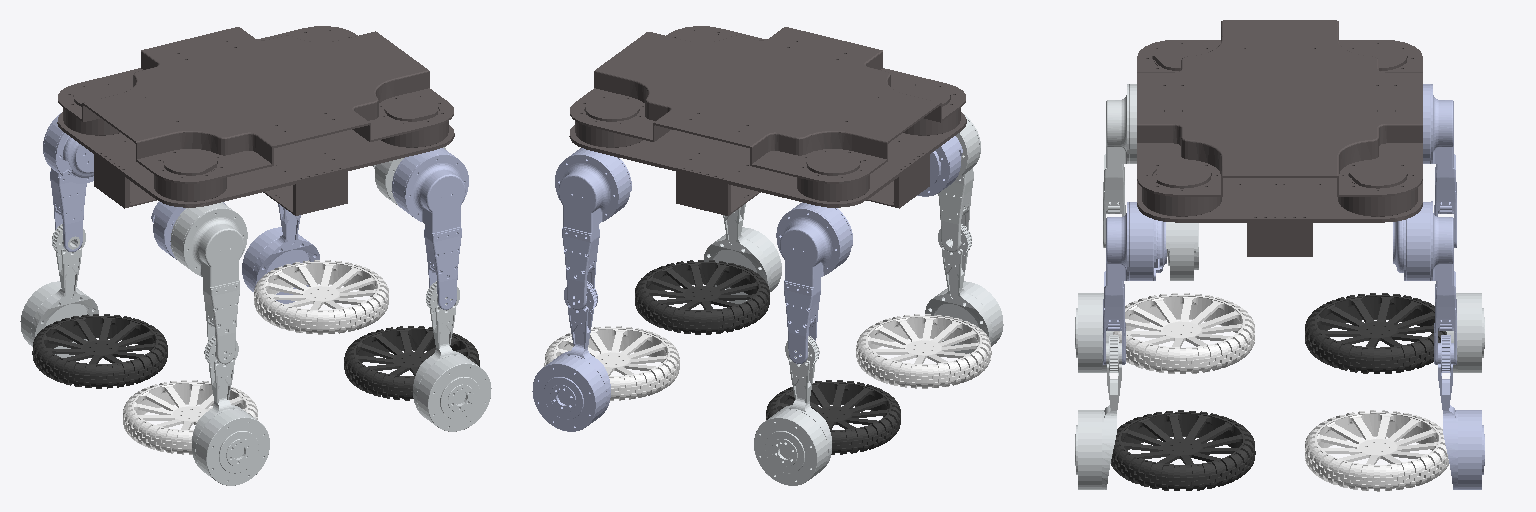
The robot description file, URDF, robot "leggedWheel_urdf_v3":
<?xml version="1.0" encoding="utf-8"?>
<!-- This URDF was automatically created by SolidWorks to URDF Exporter! Originally created by Stephen Brawner ([email redacted]) 
     Commit Version: 1.6.0-4-g7f85cfe  Build Version: 1.6.7995.38578
     For more information, please see http://wiki.ros.org/sw_urdf_exporter -->
<robot
  name="leggedWheel_urdf_v3">
  <link
    name="base_link">
    <inertial>
      <origin
        xyz="-0.00687441750629303 0.00016840998628298 0.039643037351686"
        rpy="0 0 0" />
      <mass
        value="6.93631041360623" />
      <inertia
        ixx="0.0336459138280558"
        ixy="-8.79536879622568E-07"
        ixz="1.40887605515335E-06"
        iyy="0.0542098357785469"
        iyz="-1.88696496348487E-06"
        izz="0.0868280053141141" />
    </inertial>
    <visual>
      <origin
        xyz="0 0 0"
        rpy="0 0 0" />
      <geometry>
        <mesh
          filename="package://leggedWheel_urdf_v3/meshes/base_link.STL" />
      </geometry>
      <material
        name="">
        <color
          rgba="0.43921568627451 0.411764705882353 0.411764705882353 1" />
      </material>
    </visual>
    <collision>
      <origin
        xyz="0 0 0"
        rpy="0 0 0" />
      <geometry>
        <mesh
          filename="package://leggedWheel_urdf_v3/meshes/base_link.STL" />
      </geometry>
    </collision>
  </link>
  <link
    name="left_front_abad">
    <inertial>
      <origin
        xyz="3.96909066445739E-05 -0.000913510036137155 0.0141455115549921"
        rpy="0 0 0" />
      <mass
        value="0.364781129600683" />
      <inertia
        ixx="0.000214071586798384"
        ixy="2.33639275270925E-07"
        ixz="-3.02901820553948E-07"
        iyy="0.000372454562010097"
        iyz="-2.19156777432857E-07"
        izz="0.000262021229869407" />
    </inertial>
    <visual>
      <origin
        xyz="0 0 0"
        rpy="0 0 0" />
      <geometry>
        <mesh
          filename="package://leggedWheel_urdf_v3/meshes/left_front_abad.STL" />
      </geometry>
      <material
        name="">
        <color
          rgba="0.898039215686275 0.917647058823529 0.929411764705882 1" />
      </material>
    </visual>
    <collision>
      <origin
        xyz="0 0 0"
        rpy="0 0 0" />
      <geometry>
        <mesh
          filename="package://leggedWheel_urdf_v3/meshes/left_front_abad.STL" />
      </geometry>
    </collision>
  </link>
  <joint
    name="left_front_abad"
    type="revolute">
    <origin
      xyz="0.169999999999999 0.120000000000005 -0.0510000000000034"
      rpy="0 0 0" />
    <parent
      link="base_link" />
    <child
      link="left_front_abad" />
    <axis
      xyz="0 0 1" />
    <limit
      lower="-3.14"
      upper="3.14"
      effort="10"
      velocity="275" />
  </joint>
  <link
    name="left_front_hip">
    <inertial>
      <origin
        xyz="0.000257190709675337 0.058783752059471 -0.0187965428097329"
        rpy="0 0 0" />
      <mass
        value="0.58601696675297" />
      <inertia
        ixx="0.000416527877754753"
        ixy="-3.62595971993563E-07"
        ixz="2.33666319471906E-06"
        iyy="0.000634287646205887"
        iyz="8.88036094220621E-06"
        izz="0.000299341608899424" />
    </inertial>
    <visual>
      <origin
        xyz="0 0 0"
        rpy="0 0 0" />
      <geometry>
        <mesh
          filename="package://leggedWheel_urdf_v3/meshes/left_front_hip.STL" />
      </geometry>
      <material
        name="">
        <color
          rgba="0.792156862745098 0.819607843137255 0.933333333333333 1" />
      </material>
    </visual>
    <collision>
      <origin
        xyz="0 0 0"
        rpy="0 0 0" />
      <geometry>
        <mesh
          filename="package://leggedWheel_urdf_v3/meshes/left_front_hip.STL" />
      </geometry>
    </collision>
  </link>
  <joint
    name="left_front_hip"
    type="revolute">
    <origin
      xyz="0 0 0"
      rpy="0 0 0" />
    <parent
      link="left_front_abad" />
    <child
      link="left_front_hip" />
    <axis
      xyz="0 1 0" />
    <limit
      lower="-3.14"
      upper="3.14"
      effort="10"
      velocity="275" />
  </joint>
  <link
    name="left_front_knee">
    <inertial>
      <origin
        xyz="7.76403467184217E-07 0.101384054323778 -0.105775251077242"
        rpy="0 0 0" />
      <mass
        value="0.441651824159081" />
      <inertia
        ixx="0.000398866453379467"
        ixy="1.00806584895321E-08"
        ixz="-1.08489290087054E-08"
        iyy="0.000612887101614769"
        iyz="2.01368193265162E-05"
        izz="0.000274530065386405" />
    </inertial>
    <visual>
      <origin
        xyz="0 0 0"
        rpy="0 0 0" />
      <geometry>
        <mesh
          filename="package://leggedWheel_urdf_v3/meshes/left_front_knee.STL" />
      </geometry>
      <material
        name="">
        <color
          rgba="0.792156862745098 0.819607843137255 0.933333333333333 1" />
      </material>
    </visual>
    <collision>
      <origin
        xyz="0 0 0"
        rpy="0 0 0" />
      <geometry>
        <mesh
          filename="package://leggedWheel_urdf_v3/meshes/left_front_knee.STL" />
      </geometry>
    </collision>
  </link>
  <joint
    name="left_front_knee"
    type="revolute">
    <origin
      xyz="0 0 -0.152"
      rpy="0 0 0" />
    <parent
      link="left_front_hip" />
    <child
      link="left_front_knee" />
    <axis
      xyz="0 1 0" />
    <limit
      lower="-3.14"
      upper="3.14"
      effort="10"
      velocity="275" />
  </joint>
  <link
    name="left_front_wheel">
    <inertial>
      <origin
        xyz="-3.30023919303812E-09 0.151096488682378 -2.85931647803217E-09"
        rpy="0 0 0" />
      <mass
        value="1.05505860671373" />
      <inertia
        ixx="0.00281347246586849"
        ixy="7.0774731593858E-11"
        ixz="5.90686008357425E-11"
        iyy="0.0050229074402748"
        iyz="-5.00443921286913E-11"
        izz="0.00281347246843757" />
    </inertial>
    <visual>
      <origin
        xyz="0 0 0"
        rpy="0 0 0" />
      <geometry>
        <mesh
          filename="package://leggedWheel_urdf_v3/meshes/left_front_wheel.STL" />
      </geometry>
      <material
        name="">
        <color
          rgba="1 1 1 1" />
      </material>
    </visual>
    <collision>
      <origin
        xyz="0 0 0"
        rpy="0 0 0" />
      <geometry>
        <mesh
          filename="package://leggedWheel_urdf_v3/meshes/left_front_wheel.STL" />
      </geometry>
    </collision>
  </link>
  <joint
    name="left_front_wheel"
    type="continuous">
    <origin
      xyz="0 0 -0.13"
      rpy="0 0 0" />
    <parent
      link="left_front_knee" />
    <child
      link="left_front_wheel" />
    <axis
      xyz="0 1 0" />
    <limit
      effort="10"
      velocity="400" />
  </joint>
  <link
    name="left_back_abad">
    <inertial>
      <origin
        xyz="3.96909066445184E-05 -0.000913510036137183 0.0141455115549919"
        rpy="0 0 0" />
      <mass
        value="0.364781129600681" />
      <inertia
        ixx="0.000214071586798384"
        ixy="2.3363927527067E-07"
        ixz="-3.02901820553969E-07"
        iyy="0.000372454562010097"
        iyz="-2.191567774326E-07"
        izz="0.000262021229869406" />
    </inertial>
    <visual>
      <origin
        xyz="0 0 0"
        rpy="0 0 0" />
      <geometry>
        <mesh
          filename="package://leggedWheel_urdf_v3/meshes/left_back_abad.STL" />
      </geometry>
      <material
        name="">
        <color
          rgba="0.898039215686275 0.917647058823529 0.929411764705882 1" />
      </material>
    </visual>
    <collision>
      <origin
        xyz="0 0 0"
        rpy="0 0 0" />
      <geometry>
        <mesh
          filename="package://leggedWheel_urdf_v3/meshes/left_back_abad.STL" />
      </geometry>
    </collision>
  </link>
  <joint
    name="left_back_abad"
    type="revolute">
    <origin
      xyz="-0.170000000000001 0.120000000000004 -0.0510000000000034"
      rpy="0 0 0" />
    <parent
      link="base_link" />
    <child
      link="left_back_abad" />
    <axis
      xyz="0 0 1" />
    <limit
      lower="-3.14"
      upper="3.14"
      effort="10"
      velocity="275" />
  </joint>
  <link
    name="left_back_hip">
    <inertial>
      <origin
        xyz="0.000257190709675559 0.0587837520594712 -0.018796542809733"
        rpy="0 0 0" />
      <mass
        value="0.586016966752973" />
      <inertia
        ixx="0.000416527877754754"
        ixy="-3.62595971993404E-07"
        ixz="2.33666319472172E-06"
        iyy="0.000634287646205885"
        iyz="8.88036094220618E-06"
        izz="0.000299341608899422" />
    </inertial>
    <visual>
      <origin
        xyz="0 0 0"
        rpy="0 0 0" />
      <geometry>
        <mesh
          filename="package://leggedWheel_urdf_v3/meshes/left_back_hip.STL" />
      </geometry>
      <material
        name="">
        <color
          rgba="0.792156862745098 0.819607843137255 0.933333333333333 1" />
      </material>
    </visual>
    <collision>
      <origin
        xyz="0 0 0"
        rpy="0 0 0" />
      <geometry>
        <mesh
          filename="package://leggedWheel_urdf_v3/meshes/left_back_hip.STL" />
      </geometry>
    </collision>
  </link>
  <joint
    name="left_back_hip"
    type="revolute">
    <origin
      xyz="0 0 0"
      rpy="0 0 0" />
    <parent
      link="left_back_abad" />
    <child
      link="left_back_hip" />
    <axis
      xyz="0 1 0" />
    <limit
      lower="-3.14"
      upper="3.14"
      effort="10"
      velocity="275" />
  </joint>
  <link
    name="left_back_knee">
    <inertial>
      <origin
        xyz="7.76403467128706E-07 0.101384054323778 -0.105775251077242"
        rpy="0 0 0" />
      <mass
        value="0.44165182415908" />
      <inertia
        ixx="0.000398866453379467"
        ixy="1.00806584895534E-08"
        ixz="-1.08489290083958E-08"
        iyy="0.000612887101614769"
        iyz="2.01368193265164E-05"
        izz="0.000274530065386405" />
    </inertial>
    <visual>
      <origin
        xyz="0 0 0"
        rpy="0 0 0" />
      <geometry>
        <mesh
          filename="package://leggedWheel_urdf_v3/meshes/left_back_knee.STL" />
      </geometry>
      <material
        name="">
        <color
          rgba="0.898039215686275 0.917647058823529 0.929411764705882 1" />
      </material>
    </visual>
    <collision>
      <origin
        xyz="0 0 0"
        rpy="0 0 0" />
      <geometry>
        <mesh
          filename="package://leggedWheel_urdf_v3/meshes/left_back_knee.STL" />
      </geometry>
    </collision>
  </link>
  <joint
    name="left_back_knee"
    type="revolute">
    <origin
      xyz="0 0 -0.152"
      rpy="0 0 0" />
    <parent
      link="left_back_hip" />
    <child
      link="left_back_knee" />
    <axis
      xyz="0 1 0" />
    <limit
      lower="-3.14"
      upper="3.14"
      effort="10"
      velocity="275" />
  </joint>
  <link
    name="left_back_wheel">
    <inertial>
      <origin
        xyz="-3.30023941508273E-09 0.151096488682378 -2.85931653354332E-09"
        rpy="0 0 0" />
      <mass
        value="1.05505860671376" />
      <inertia
        ixx="0.00281347246586855"
        ixy="7.07747301868021E-11"
        ixz="5.90686125680846E-11"
        iyy="0.00502290744027486"
        iyz="-5.00443946171771E-11"
        izz="0.00281347246843757" />
    </inertial>
    <visual>
      <origin
        xyz="0 0 0"
        rpy="0 0 0" />
      <geometry>
        <mesh
          filename="package://leggedWheel_urdf_v3/meshes/left_back_wheel.STL" />
      </geometry>
      <material
        name="">
        <color
          rgba="0.298039215686275 0.298039215686275 0.298039215686275 1" />
      </material>
    </visual>
    <collision>
      <origin
        xyz="0 0 0"
        rpy="0 0 0" />
      <geometry>
        <mesh
          filename="package://leggedWheel_urdf_v3/meshes/left_back_wheel.STL" />
      </geometry>
    </collision>
  </link>
  <joint
    name="left_back_wheel"
    type="continuous">
    <origin
      xyz="0 0 -0.13"
      rpy="0 0 0" />
    <parent
      link="left_back_knee" />
    <child
      link="left_back_wheel" />
    <axis
      xyz="0 1 0" />
    <limit
      effort="10"
      velocity="400" />
  </joint>
  <link
    name="right_front_abad">
    <inertial>
      <origin
        xyz="-3.96909066446849E-05 0.00091351003613778 0.0141455115549919"
        rpy="0 0 0" />
      <mass
        value="0.364781129600681" />
      <inertia
        ixx="0.000214071586798384"
        ixy="2.33639275271964E-07"
        ixz="3.02901820553882E-07"
        iyy="0.000372454562010096"
        iyz="2.19156777427903E-07"
        izz="0.000262021229869406" />
    </inertial>
    <visual>
      <origin
        xyz="0 0 0"
        rpy="0 0 0" />
      <geometry>
        <mesh
          filename="package://leggedWheel_urdf_v3/meshes/right_front_abad.STL" />
      </geometry>
      <material
        name="">
        <color
          rgba="0.898039215686275 0.917647058823529 0.929411764705882 1" />
      </material>
    </visual>
    <collision>
      <origin
        xyz="0 0 0"
        rpy="0 0 0" />
      <geometry>
        <mesh
          filename="package://leggedWheel_urdf_v3/meshes/right_front_abad.STL" />
      </geometry>
    </collision>
  </link>
  <joint
    name="right_front_abad"
    type="revolute">
    <origin
      xyz="0.17 -0.12 -0.051"
      rpy="0 0 0" />
    <parent
      link="base_link" />
    <child
      link="right_front_abad" />
    <axis
      xyz="0 0 1" />
    <limit
      lower="-3.14"
      upper="3.14"
      effort="10"
      velocity="275" />
  </joint>
  <link
    name="right_front_hip">
    <inertial>
      <origin
        xyz="-0.000257190709172406 -0.0587837520583022 -0.0187965428098051"
        rpy="0 0 0" />
      <mass
        value="0.586016966753359" />
      <inertia
        ixx="0.000416527877758501"
        ixy="-3.6259597201578E-07"
        ixz="-2.33666318250852E-06"
        iyy="0.000634287646209621"
        iyz="-8.88036093474357E-06"
        izz="0.000299341608899457" />
    </inertial>
    <visual>
      <origin
        xyz="0 0 0"
        rpy="0 0 0" />
      <geometry>
        <mesh
          filename="package://leggedWheel_urdf_v3/meshes/right_front_hip.STL" />
      </geometry>
      <material
        name="">
        <color
          rgba="0.792156862745098 0.819607843137255 0.933333333333333 1" />
      </material>
    </visual>
    <collision>
      <origin
        xyz="0 0 0"
        rpy="0 0 0" />
      <geometry>
        <mesh
          filename="package://leggedWheel_urdf_v3/meshes/right_front_hip.STL" />
      </geometry>
    </collision>
  </link>
  <joint
    name="right_front_hip"
    type="revolute">
    <origin
      xyz="0 0 0"
      rpy="0 0 0" />
    <parent
      link="right_front_abad" />
    <child
      link="right_front_hip" />
    <axis
      xyz="0 1 0" />
    <limit
      lower="-3.14"
      upper="3.14"
      effort="10"
      velocity="275" />
  </joint>
  <link
    name="right_front_knee">
    <inertial>
      <origin
        xyz="-7.76403467961373E-07 -0.101384054323783 -0.105775251077238"
        rpy="0 0 0" />
      <mass
        value="0.441651824159078" />
      <inertia
        ixx="0.000398866453379465"
        ixy="1.00806584911063E-08"
        ixz="1.08489290087403E-08"
        iyy="0.000612887101614764"
        iyz="-2.01368193265306E-05"
        izz="0.000274530065386405" />
    </inertial>
    <visual>
      <origin
        xyz="0 0 0"
        rpy="0 0 0" />
      <geometry>
        <mesh
          filename="package://leggedWheel_urdf_v3/meshes/right_front_knee.STL" />
      </geometry>
      <material
        name="">
        <color
          rgba="0.898039215686275 0.917647058823529 0.929411764705882 1" />
      </material>
    </visual>
    <collision>
      <origin
        xyz="0 0 0"
        rpy="0 0 0" />
      <geometry>
        <mesh
          filename="package://leggedWheel_urdf_v3/meshes/right_front_knee.STL" />
      </geometry>
    </collision>
  </link>
  <joint
    name="right_front_knee"
    type="revolute">
    <origin
      xyz="0 0 -0.152"
      rpy="0 0 0" />
    <parent
      link="right_front_hip" />
    <child
      link="right_front_knee" />
    <axis
      xyz="0 1 0" />
    <limit
      lower="-3.14"
      upper="3.14"
      effort="10"
      velocity="275" />
  </joint>
  <link
    name="right_front_wheel">
    <inertial>
      <origin
        xyz="3.30023841588201E-09 -0.151096488682378 -2.85930970567172E-09"
        rpy="0 0 0" />
      <mass
        value="1.05505860671378" />
      <inertia
        ixx="0.00281347246586857"
        ixy="7.07747492468073E-11"
        ixz="-5.90686222096659E-11"
        iyy="0.0050229074402749"
        iyz="5.00443036237485E-11"
        izz="0.00281347246843761" />
    </inertial>
    <visual>
      <origin
        xyz="0 0 0"
        rpy="0 0 0" />
      <geometry>
        <mesh
          filename="package://leggedWheel_urdf_v3/meshes/right_front_wheel.STL" />
      </geometry>
      <material
        name="">
        <color
          rgba="0.298039215686275 0.298039215686275 0.298039215686275 1" />
      </material>
    </visual>
    <collision>
      <origin
        xyz="0 0 0"
        rpy="0 0 0" />
      <geometry>
        <mesh
          filename="package://leggedWheel_urdf_v3/meshes/right_front_wheel.STL" />
      </geometry>
    </collision>
  </link>
  <joint
    name="right_front_wheel"
    type="continuous">
    <origin
      xyz="0 0 -0.13"
      rpy="0 0 0" />
    <parent
      link="right_front_knee" />
    <child
      link="right_front_wheel" />
    <axis
      xyz="0 1 0" />
    <limit
      effort="10"
      velocity="400" />
  </joint>
  <link
    name="right_back_abad">
    <inertial>
      <origin
        xyz="-3.96909066446294E-05 0.000913510036137488 0.014145511554992"
        rpy="0 0 0" />
      <mass
        value="0.364781129600681" />
      <inertia
        ixx="0.000214071586798384"
        ixy="2.33639275271317E-07"
        ixz="3.02901820553864E-07"
        iyy="0.000372454562010096"
        iyz="2.19156777430364E-07"
        izz="0.000262021229869406" />
    </inertial>
    <visual>
      <origin
        xyz="0 0 0"
        rpy="0 0 0" />
      <geometry>
        <mesh
          filename="package://leggedWheel_urdf_v3/meshes/right_back_abad.STL" />
      </geometry>
      <material
        name="">
        <color
          rgba="0.792156862745098 0.819607843137255 0.933333333333333 1" />
      </material>
    </visual>
    <collision>
      <origin
        xyz="0 0 0"
        rpy="0 0 0" />
      <geometry>
        <mesh
          filename="package://leggedWheel_urdf_v3/meshes/right_back_abad.STL" />
      </geometry>
    </collision>
  </link>
  <joint
    name="right_back_abad"
    type="revolute">
    <origin
      xyz="-0.17 -0.12 -0.051"
      rpy="0 0 0" />
    <parent
      link="base_link" />
    <child
      link="right_back_abad" />
    <axis
      xyz="0 0 1" />
    <limit
      lower="-3.14"
      upper="3.14"
      effort="10"
      velocity="275" />
  </joint>
  <link
    name="right_back_hip">
    <inertial>
      <origin
        xyz="-0.000257190709437971 -0.0587837520578504 -0.018796542804722"
        rpy="0 0 0" />
      <mass
        value="0.586016966727991" />
      <inertia
        ixx="0.000416527877718038"
        ixy="-3.62595971351178E-07"
        ixz="-2.33666318881681E-06"
        iyy="0.000634287646168458"
        iyz="-8.8803609386424E-06"
        izz="0.000299341608898524" />
    </inertial>
    <visual>
      <origin
        xyz="0 0 0"
        rpy="0 0 0" />
      <geometry>
        <mesh
          filename="package://leggedWheel_urdf_v3/meshes/right_back_hip.STL" />
      </geometry>
      <material
        name="">
        <color
          rgba="0.898039215686275 0.917647058823529 0.929411764705882 1" />
      </material>
    </visual>
    <collision>
      <origin
        xyz="0 0 0"
        rpy="0 0 0" />
      <geometry>
        <mesh
          filename="package://leggedWheel_urdf_v3/meshes/right_back_hip.STL" />
      </geometry>
    </collision>
  </link>
  <joint
    name="right_back_hip"
    type="revolute">
    <origin
      xyz="0 0 0"
      rpy="0 0 0" />
    <parent
      link="right_back_abad" />
    <child
      link="right_back_hip" />
    <axis
      xyz="0 1 0" />
    <limit
      lower="-3.14"
      upper="3.14"
      effort="10"
      velocity="275" />
  </joint>
  <link
    name="right_back_knee">
    <inertial>
      <origin
        xyz="-7.76403467628306E-07 -0.101384054323781 -0.10577525107724"
        rpy="0 0 0" />
      <mass
        value="0.441651824159079" />
      <inertia
        ixx="0.000398866453379465"
        ixy="1.00806584902624E-08"
        ixz="1.08489290086285E-08"
        iyy="0.000612887101614765"
        iyz="-2.01368193265234E-05"
        izz="0.000274530065386405" />
    </inertial>
    <visual>
      <origin
        xyz="0 0 0"
        rpy="0 0 0" />
      <geometry>
        <mesh
          filename="package://leggedWheel_urdf_v3/meshes/right_back_knee.STL" />
      </geometry>
      <material
        name="">
        <color
          rgba="0.898039215686275 0.917647058823529 0.929411764705882 1" />
      </material>
    </visual>
    <collision>
      <origin
        xyz="0 0 0"
        rpy="0 0 0" />
      <geometry>
        <mesh
          filename="package://leggedWheel_urdf_v3/meshes/right_back_knee.STL" />
      </geometry>
    </collision>
  </link>
  <joint
    name="right_back_knee"
    type="revolute">
    <origin
      xyz="0 0 -0.152"
      rpy="0 0 0" />
    <parent
      link="right_back_hip" />
    <child
      link="right_back_knee" />
    <axis
      xyz="0 1 0" />
    <limit
      lower="-3.14"
      upper="3.14"
      effort="10"
      velocity="275" />
  </joint>
  <link
    name="right_back_wheel">
    <inertial>
      <origin
        xyz="3.30023908201582E-09 -0.151096488682378 -2.85931289756292E-09"
        rpy="0 0 0" />
      <mass
        value="1.05505860671377" />
      <inertia
        ixx="0.00281347246586856"
        ixy="7.07747388619757E-11"
        ixz="-5.9068618748247E-11"
        iyy="0.00502290744027488"
        iyz="5.00443495360474E-11"
        izz="0.00281347246843759" />
    </inertial>
    <visual>
      <origin
        xyz="0 0 0"
        rpy="0 0 0" />
      <geometry>
        <mesh
          filename="package://leggedWheel_urdf_v3/meshes/right_back_wheel.STL" />
      </geometry>
      <material
        name="">
        <color
          rgba="1 1 1 1" />
      </material>
    </visual>
    <collision>
      <origin
        xyz="0 0 0"
        rpy="0 0 0" />
      <geometry>
        <mesh
          filename="package://leggedWheel_urdf_v3/meshes/right_back_wheel.STL" />
      </geometry>
    </collision>
  </link>
  <joint
    name="right_back_wheel"
    type="continuous">
    <origin
      xyz="0 0 -0.13"
      rpy="0 0 0" />
    <parent
      link="right_back_knee" />
    <child
      link="right_back_wheel" />
    <axis
      xyz="0 1 0" />
    <limit
      effort="10"
      velocity="400" />
  </joint>
</robot>

--- Render facts (derived) ---
The picture shows the robot from 3 angles, left to right: view 1: azimuth 30°, elevation 25°; view 2: azimuth 150°, elevation 25°; view 3: azimuth 270°, elevation 25°; orthographic projection.
Robot: leggedWheel_urdf_v3 — 17 links, 16 joints (12 revolute, 4 continuous); root link base_link; default pose: every joint at zero.
Visible links, largest first — view 1: base_link, left_back_wheel, left_front_wheel, right_back_hip, right_front_hip, right_front_knee, right_back_knee, right_back_wheel, right_front_wheel, left_back_hip, left_back_knee, left_front_knee (+2 smaller); view 2: base_link, right_back_wheel, right_front_wheel, left_back_hip, left_front_hip, left_front_knee, left_back_knee, left_front_wheel, left_back_wheel, right_back_knee, right_front_knee, right_back_hip (+1 smaller); view 3: base_link, left_front_wheel, right_front_wheel, right_back_wheel, left_back_wheel, left_front_hip, right_front_hip, left_front_knee, right_front_knee, left_back_hip, right_back_hip, left_back_knee (+2 smaller).
Boxes of the visible links, <box> form: base_link: <box>57,26,454,215</box>; left_back_wheel: <box>32,314,167,388</box>; left_front_wheel: <box>254,260,388,334</box>; right_back_hip: <box>170,202,247,363</box>; right_front_hip: <box>392,148,468,309</box>; right_front_knee: <box>413,281,491,431</box>; right_back_knee: <box>192,336,269,485</box>; right_back_wheel: <box>123,380,257,454</box>; right_front_wheel: <box>344,326,479,400</box>; left_back_hip: <box>43,113,93,251</box>; left_back_knee: <box>20,224,98,357</box>; left_front_knee: <box>242,204,319,303</box>; base_link: <box>569,26,966,215</box>; right_back_wheel: <box>856,314,991,388</box>; right_front_wheel: <box>635,260,769,334</box>; left_back_hip: <box>776,202,852,363</box>; left_front_hip: <box>555,148,631,309</box>; left_front_knee: <box>532,281,610,431</box>; left_back_knee: <box>754,336,831,485</box>; left_front_wheel: <box>544,326,679,400</box>; left_back_wheel: <box>766,380,900,454</box>; right_back_knee: <box>925,224,1003,353</box>; right_front_knee: <box>704,204,781,303</box>; right_back_hip: <box>938,114,980,251</box>; base_link: <box>1137,20,1422,256</box>; left_front_wheel: <box>1305,410,1448,491</box>; right_front_wheel: <box>1111,410,1255,490</box>; right_back_wheel: <box>1113,293,1254,373</box>; left_back_wheel: <box>1305,293,1446,373</box>; left_front_hip: <box>1393,201,1456,364</box>; right_front_hip: <box>1103,202,1166,364</box>; left_front_knee: <box>1438,335,1484,489</box>; right_front_knee: <box>1075,335,1121,489</box>; left_back_hip: <box>1423,84,1456,247</box>; right_back_hip: <box>1103,84,1136,247</box>; left_back_knee: <box>1446,293,1484,372</box>.
Bounding box of the posed robot: 0.52 × 0.5015 × 0.4454 m (x, y, z).
15 mesh visuals loaded from 17 distinct referenced files (15 binary STL); not drawn: 2 (reference not matched to a file when rendering).
